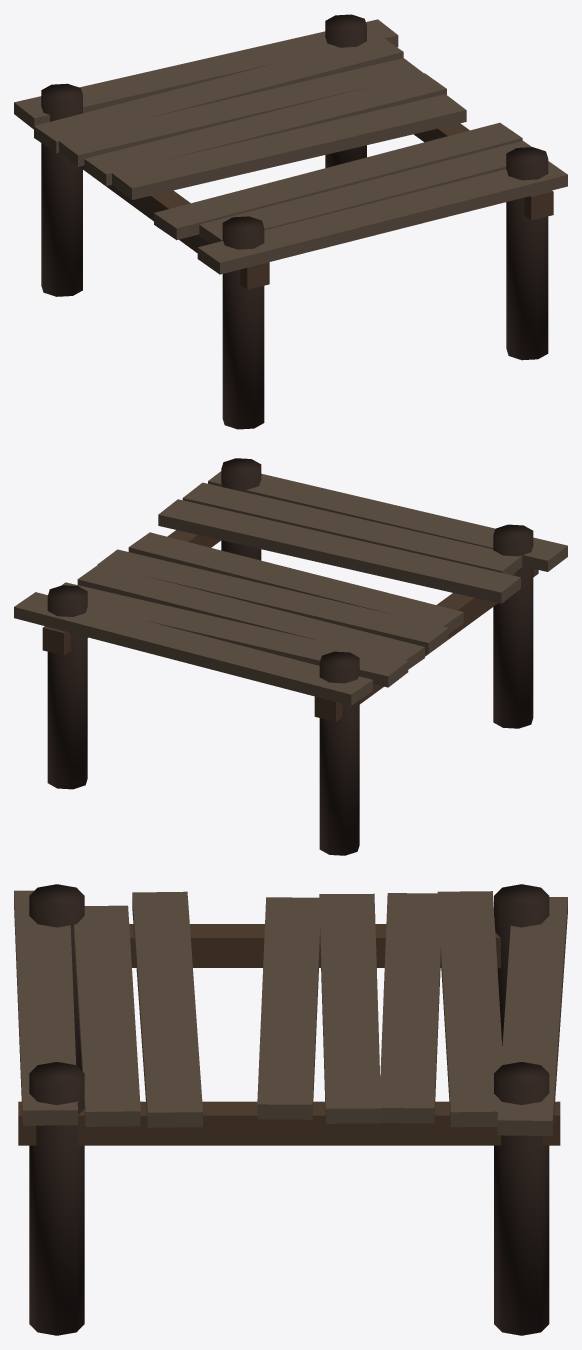
Rendered from jetty.glb.
The picture shows the model from 3 angles, top to bottom: view 1: azimuth 30°, elevation 25°; view 2: azimuth 150°, elevation 25°; view 3: azimuth 270°, elevation 25°; orthographic projection. The views are drawn at different scales.
Parts seen in each view (by area): view 1: jetty; view 2: jetty; view 3: jetty.
Part boxes in pixels (x1=…): jetty: x1=14, y1=14, x2=567, y2=429; jetty: x1=14, y1=458, x2=567, y2=855; jetty: x1=14, y1=884, x2=567, y2=1335.
Bounding box in the file's own units: 0.9871 × 0.5 × 1.
